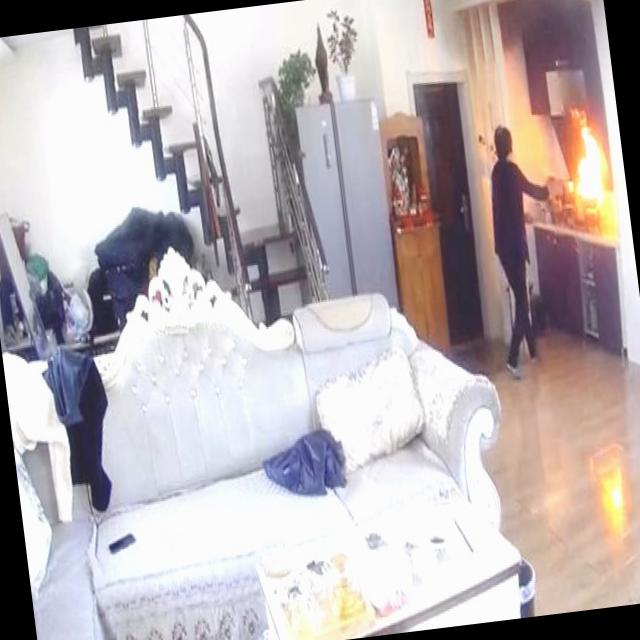fire: (557, 98, 616, 224)
